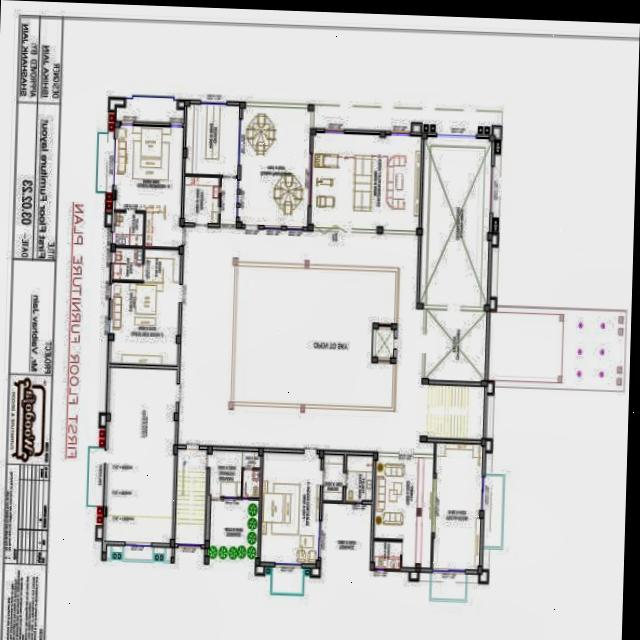room: (104, 368, 176, 545), (419, 140, 491, 305), (308, 135, 423, 229), (112, 124, 182, 248), (238, 109, 310, 227), (110, 248, 179, 366), (372, 441, 433, 569), (260, 452, 320, 564), (432, 442, 482, 572), (421, 308, 486, 380), (185, 106, 238, 176), (174, 449, 207, 546), (183, 176, 219, 223), (208, 451, 241, 497), (345, 456, 372, 501), (113, 213, 144, 247), (112, 247, 142, 281), (322, 454, 343, 502), (372, 540, 400, 568), (373, 324, 393, 359), (241, 469, 259, 498)
